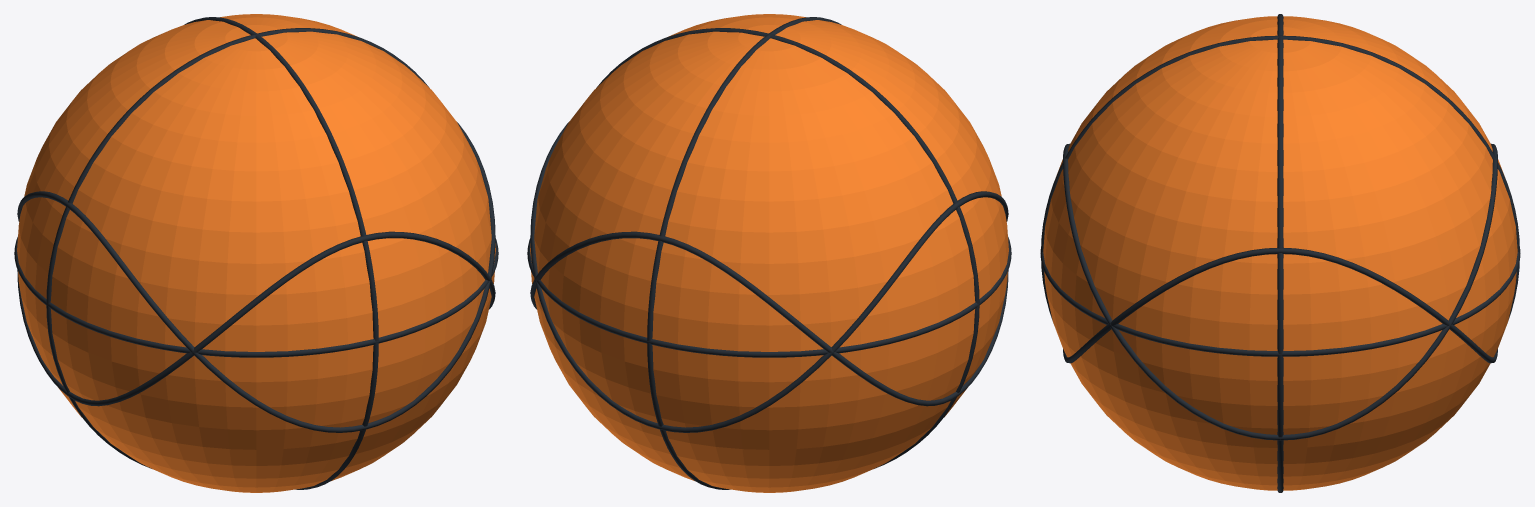
File: basketball.glb
The picture shows the model from 3 angles, left to right: view 1: azimuth 30°, elevation 25°; view 2: azimuth 150°, elevation 25°; view 3: azimuth 270°, elevation 25°; orthographic projection.
Parts seen in each view (by area): view 1: basketball; view 2: basketball; view 3: basketball.
Part boxes in pixels (<box>): basketball: <box>14,14,498,492</box>; basketball: <box>527,14,1011,492</box>; basketball: <box>1040,14,1520,492</box>.
Bounding box in the file's own units: 0.2424 × 0.2419 × 0.2424.
